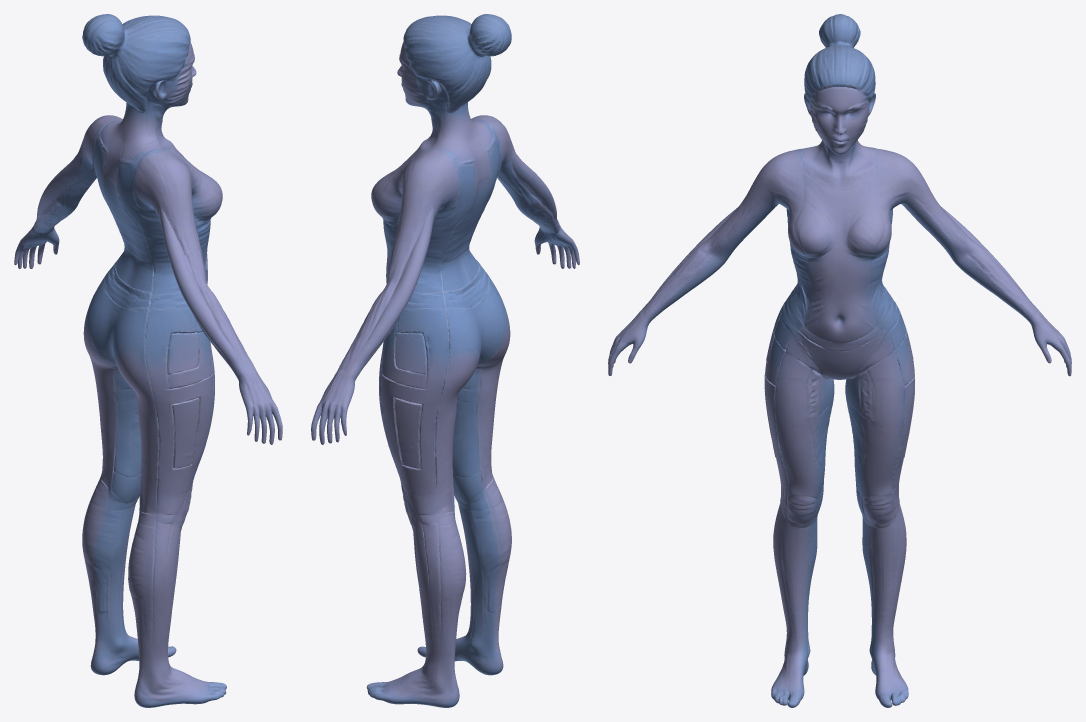
The model's file is Holo_L1.glb.
3 views of the same model, side by side, from view 1: azimuth 30°, elevation 25°; view 2: azimuth 150°, elevation 25°; view 3: azimuth 270°, elevation 25° (orthographic). The views are drawn at different scales.
Parts seen in each view (by area): view 1: tripo_node_57855540-eb86-46df-a62d-7e64d7a3e763; view 2: tripo_node_57855540-eb86-46df-a62d-7e64d7a3e763; view 3: tripo_node_57855540-eb86-46df-a62d-7e64d7a3e763.
Boxes of the visible parts, x1,y1,x2,y2 form: tripo_node_57855540-eb86-46df-a62d-7e64d7a3e763: (14,14,282,707); tripo_node_57855540-eb86-46df-a62d-7e64d7a3e763: (311,14,579,707); tripo_node_57855540-eb86-46df-a62d-7e64d7a3e763: (608,14,1071,707).
Bounding box in the file's own units: 0.1861 × 1 × 0.6468.
Materials: 1 (1 with a texture image).
